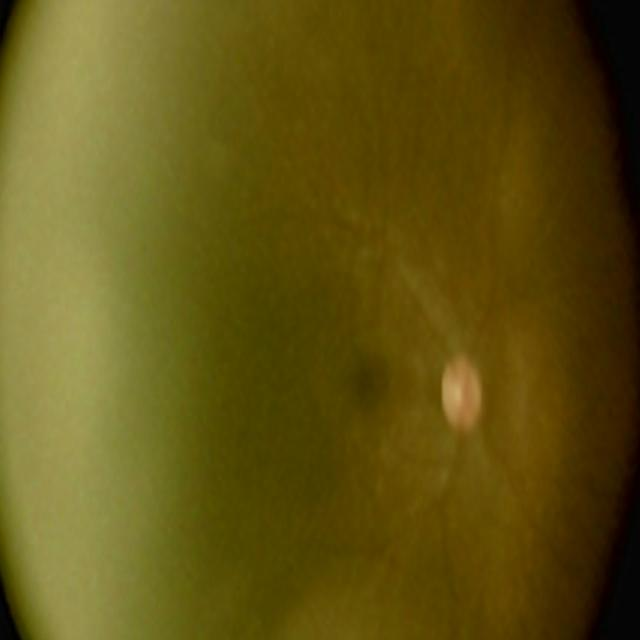optic-nerve: (408, 316, 522, 490)
